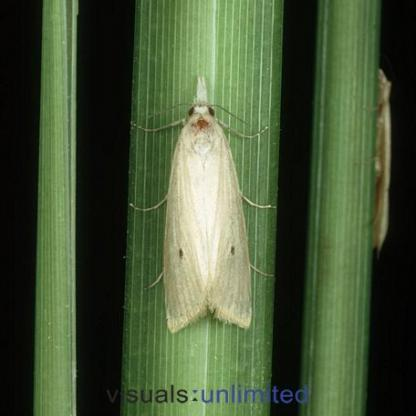stem-borer: (150, 70, 260, 336)
